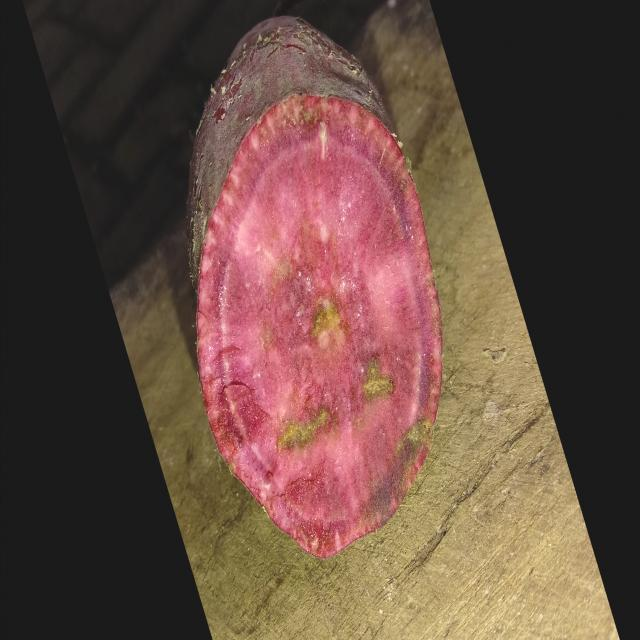Sick Sweet Potato_Tuber Rot: (196, 96, 441, 558)
